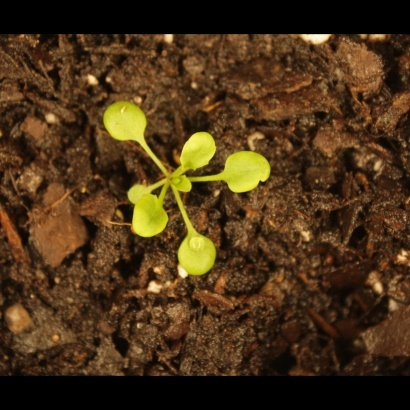leaf: (223, 144, 282, 199), (95, 98, 150, 145), (177, 226, 220, 286), (126, 190, 169, 243), (177, 126, 219, 179), (123, 177, 152, 206)
